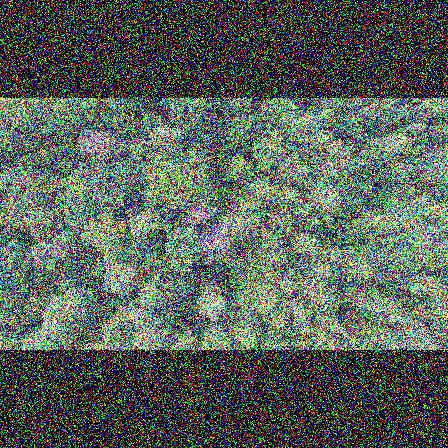Dead: (75, 126, 125, 161), (179, 195, 220, 225), (200, 226, 233, 263)
